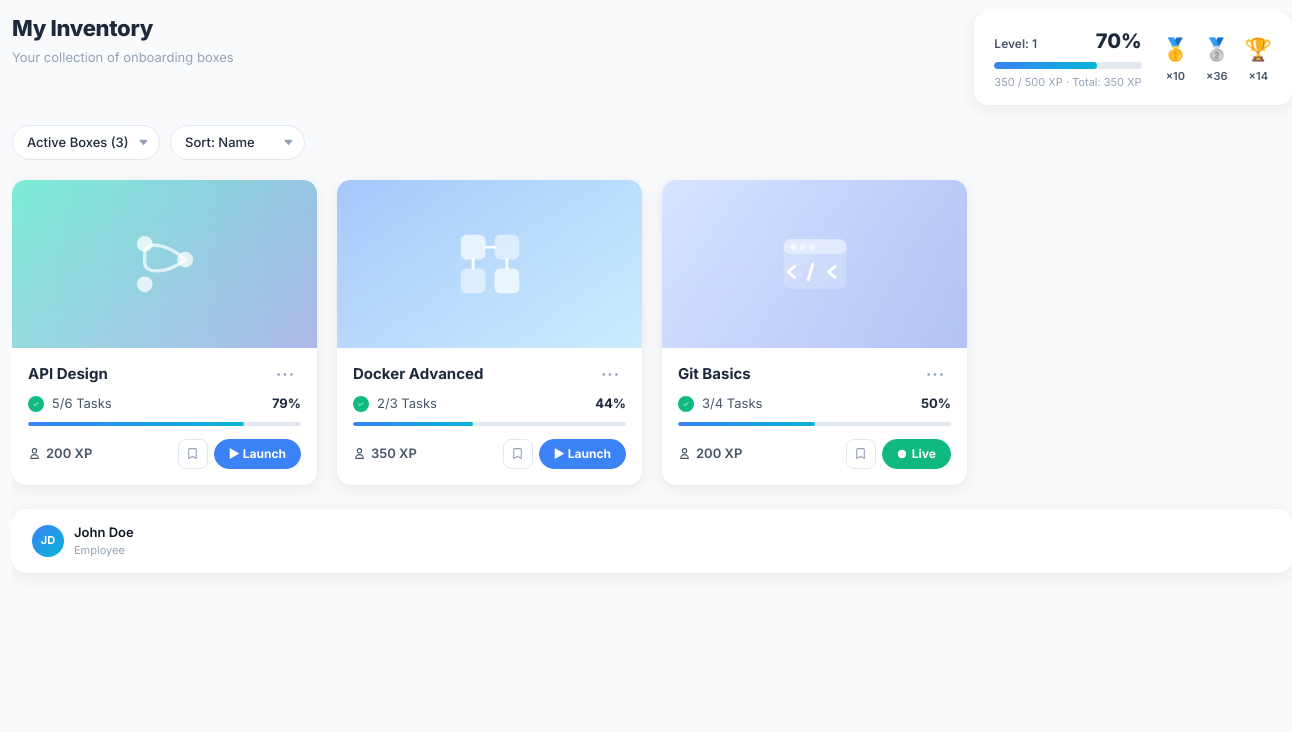
Test: Dashboard › filtra boxes por dificultad BEGINNER
The image size is (1292, 732).
Check: the heading "Git Basics" is shown, box [678,364,751,384]
Select "Beginner" in the 1st dropdown at (86, 142), box [12,124,160,160]
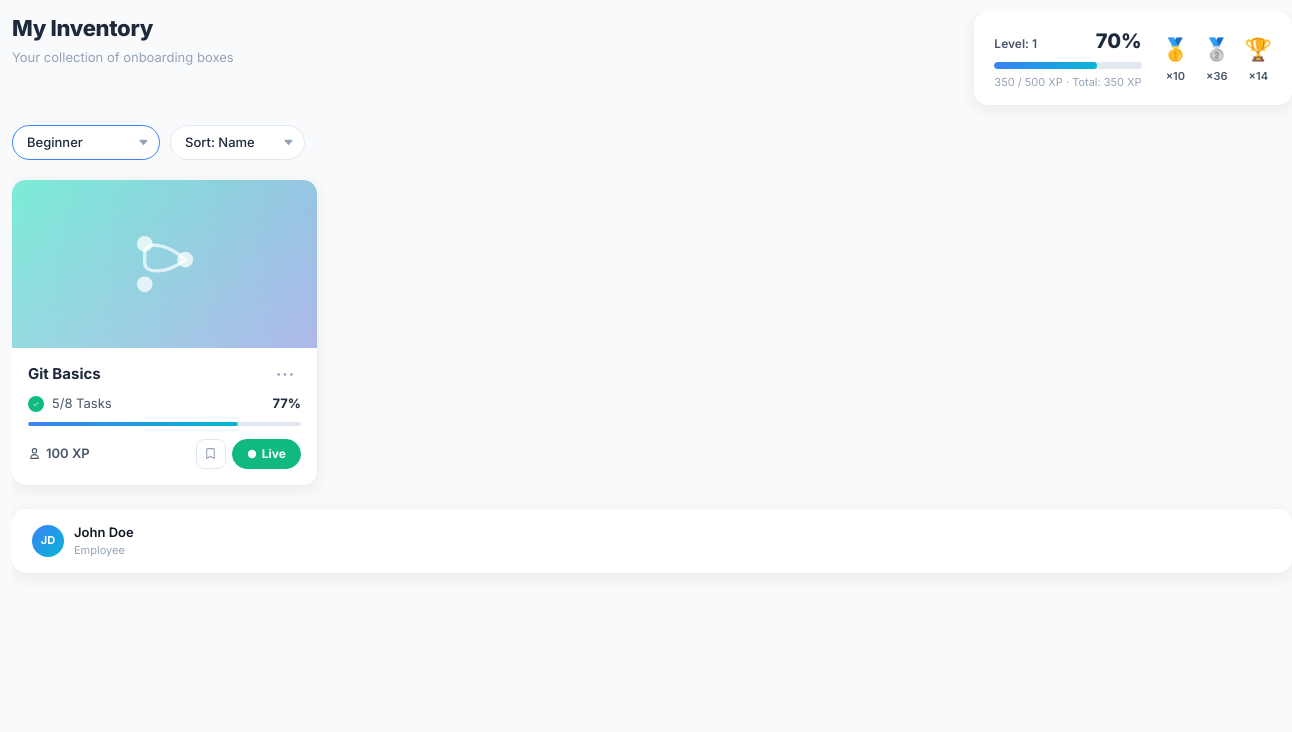
Check: the heading "Git Basics" is shown, box [28,364,101,384]
Check: the heading "Docker Advanced" is gone
Check: the heading "API Design" is gone
